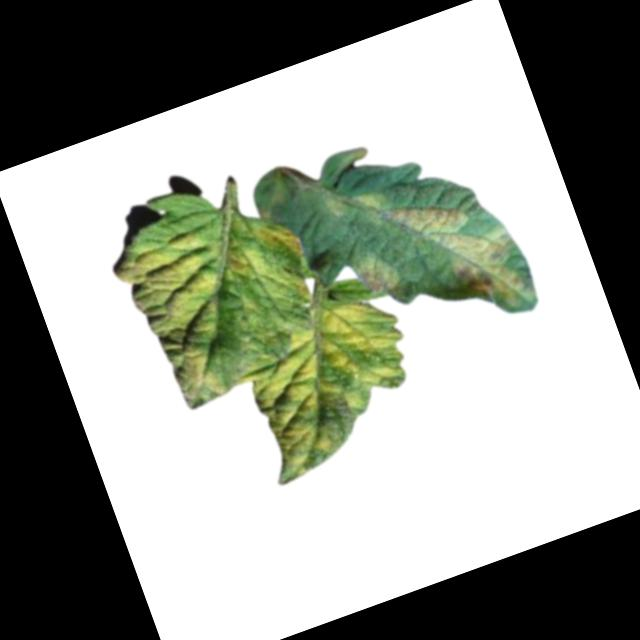Leaf_Mold: (230, 284, 439, 483), (107, 224, 258, 416), (380, 170, 538, 339), (216, 207, 321, 325), (319, 172, 388, 228), (346, 244, 400, 303)
